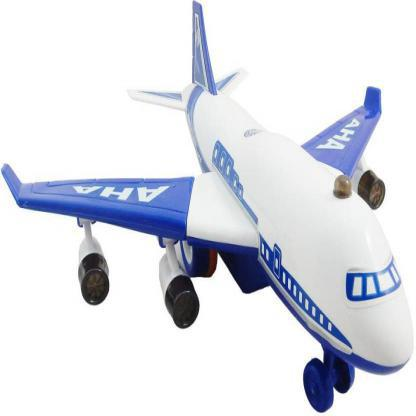CIV_Plane: (0, 0, 413, 397)
